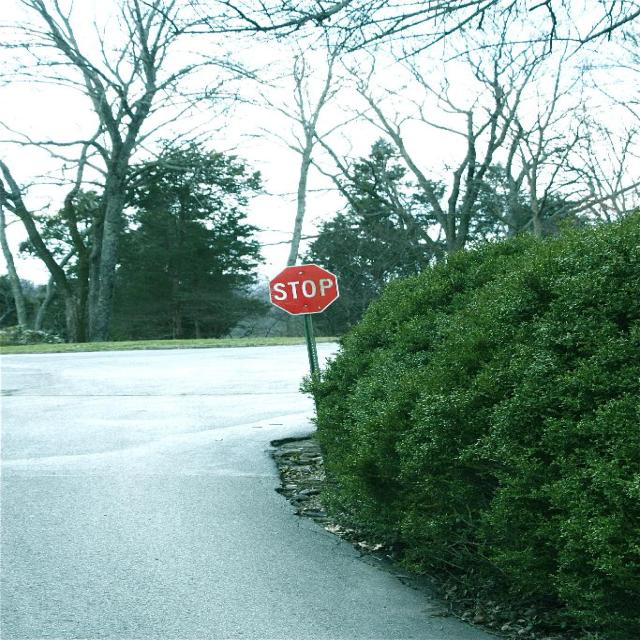Stop-sign: (267, 263, 342, 316)
